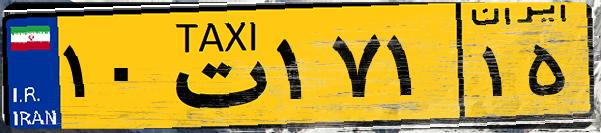0: (110, 28, 158, 98)
1: (270, 28, 330, 110), (385, 28, 445, 110), (57, 26, 110, 100), (475, 38, 525, 113)
5: (525, 38, 570, 115)
7: (330, 28, 385, 110)
ت: (158, 12, 270, 120)
